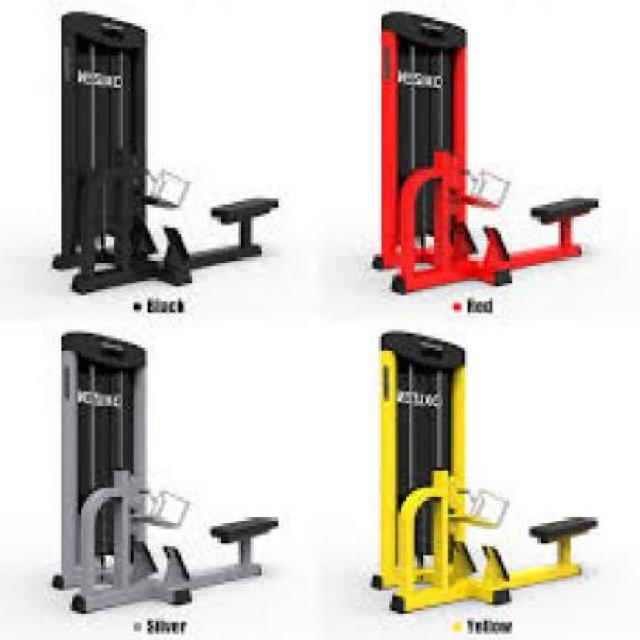Seated Cable Rows: (332, 1, 611, 312), (35, 327, 298, 640), (355, 326, 608, 640), (46, 4, 286, 330)
